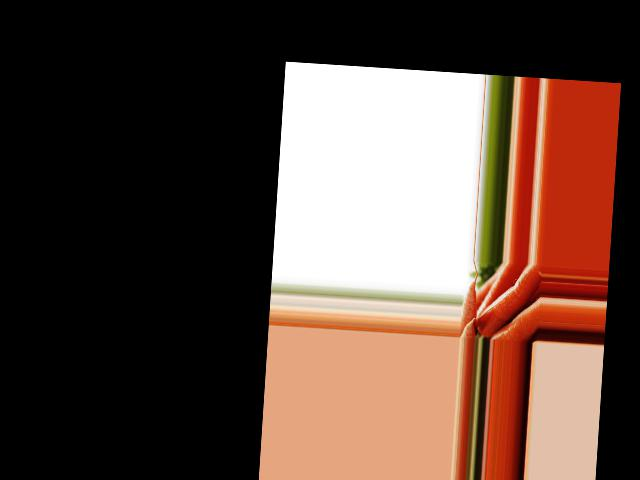carrot: (471, 268, 517, 322)
